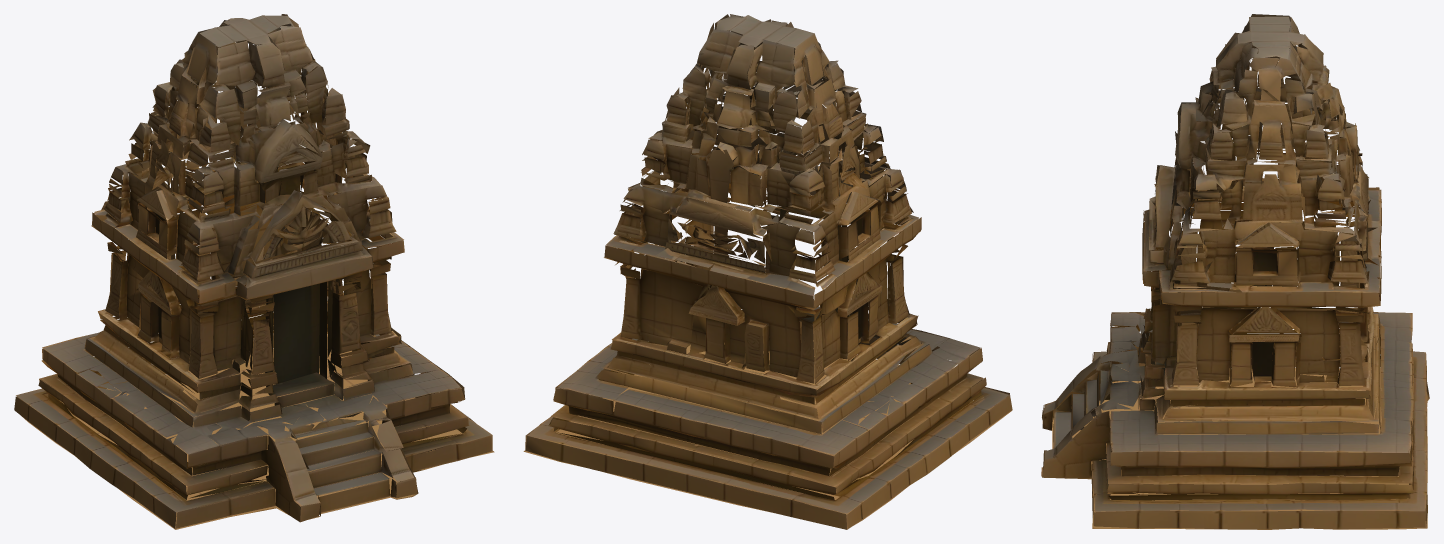
File: ancient-tribal-ruins.glb
The picture shows the model from 3 angles, left to right: view 1: azimuth 30°, elevation 25°; view 2: azimuth 150°, elevation 25°; view 3: azimuth 270°, elevation 25°; orthographic projection. The views are drawn at different scales.
Visible parts, largest first — view 1: node_0; view 2: node_0; view 3: node_0.
Part boxes in pixels (box(x1,y1,x2,y2)): node_0: box(14, 14, 494, 529); node_0: box(523, 14, 1012, 529); node_0: box(1041, 14, 1429, 529).
Size of the model in its own units: 6.67 by 8.03 by 6.78.
1 material, 1 textured.
